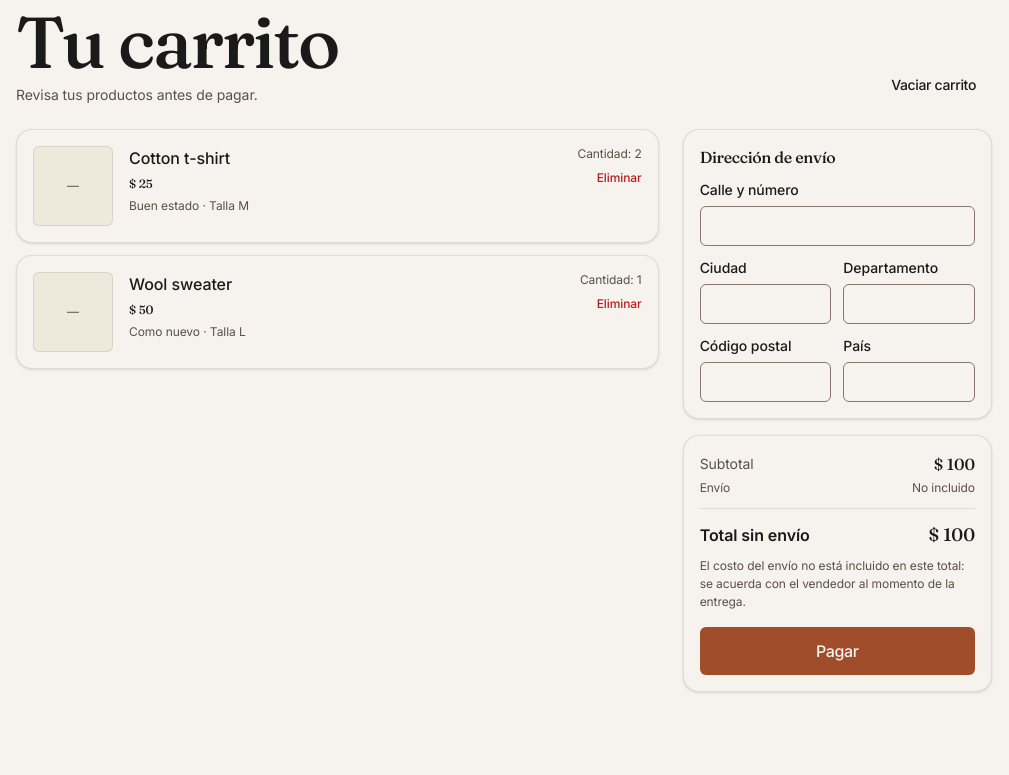
Test: CartPage › bloquea el pago si solo se llena un campo de la dirección
This screenshot has width=1009, height=775.
Check: the link "Cotton t-shirt" is shown, box [129, 148, 230, 168]
Type "Calle 10 # 5-20" into the field labelled "Calle y número".
click(837, 226); type("Calle 10 # 5-20")  # box [700, 206, 975, 246]
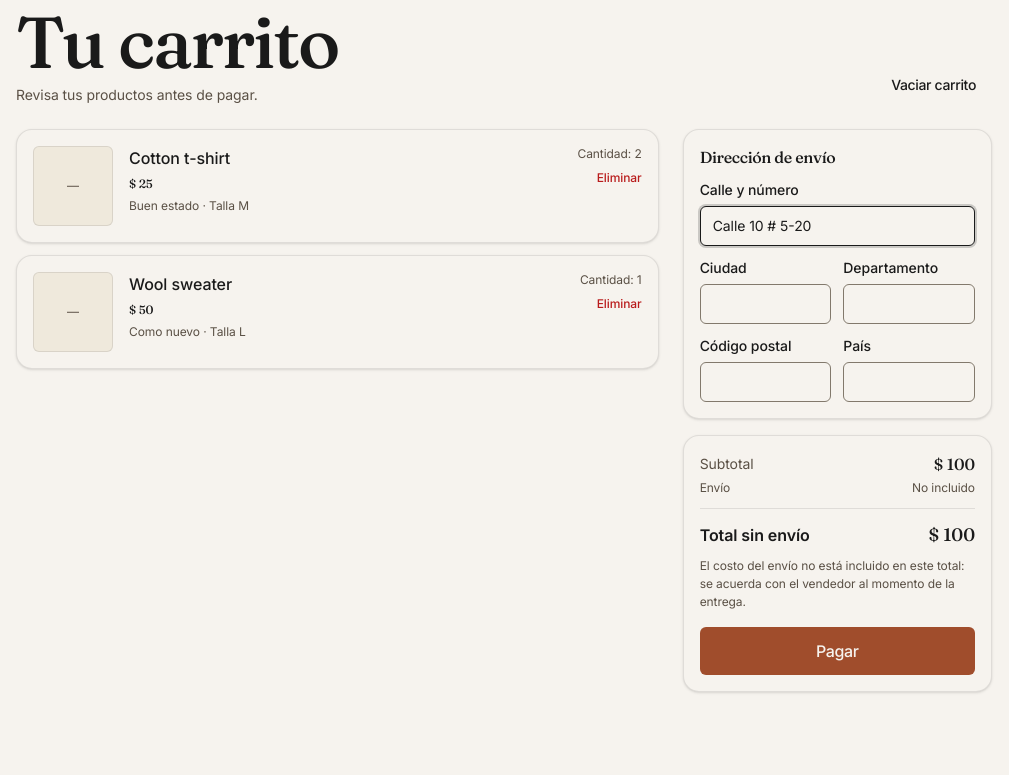
Click the button "Pagar".
click(837, 651)  # box [700, 627, 975, 675]
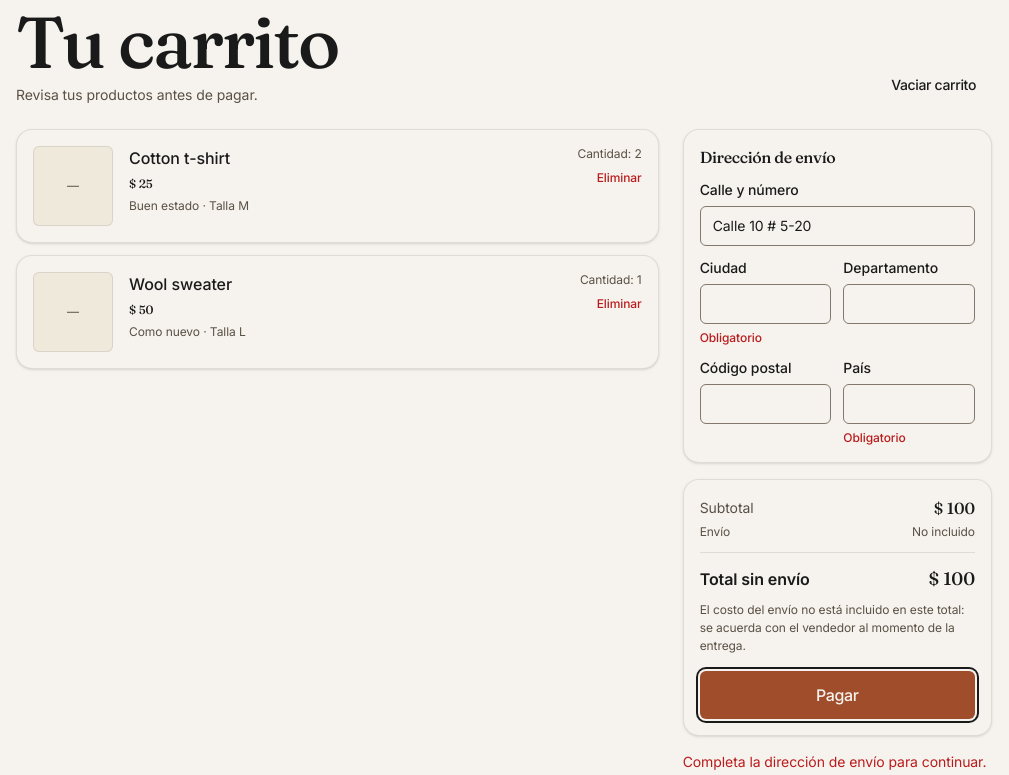
Check: the text "Completa la dirección de envío para continuar." is shown, box [683, 752, 992, 772]
